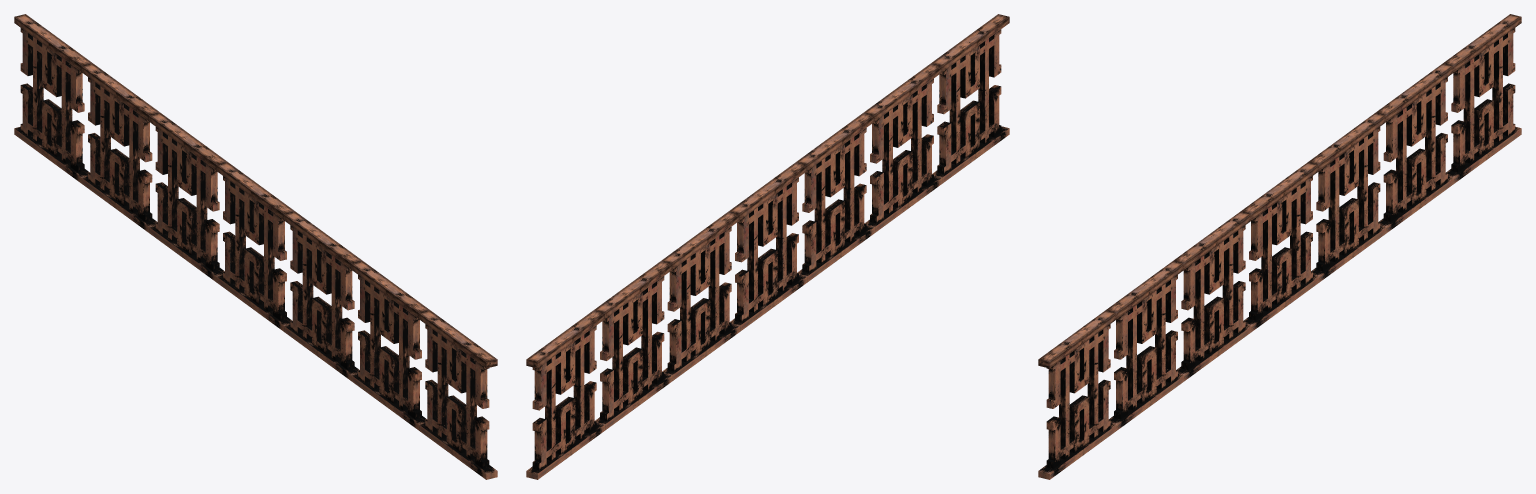
Rendered from Pared_03.fbx.
3 views of the same model, side by side, from view 1: azimuth 30°, elevation 25°; view 2: azimuth 150°, elevation 25°; view 3: azimuth 330°, elevation 25° (orthographic).
Visible parts, largest first — view 1: Cube.022; view 2: Cube.022; view 3: Cube.022.
Boxes of the visible parts, x1=… form: Cube.022: x1=14, y1=14, x2=497, y2=479; Cube.022: x1=526, y1=14, x2=1009, y2=479; Cube.022: x1=1038, y1=14, x2=1521, y2=479.
Bounding box in the file's own units: 60.28 × 587 × 4273.
